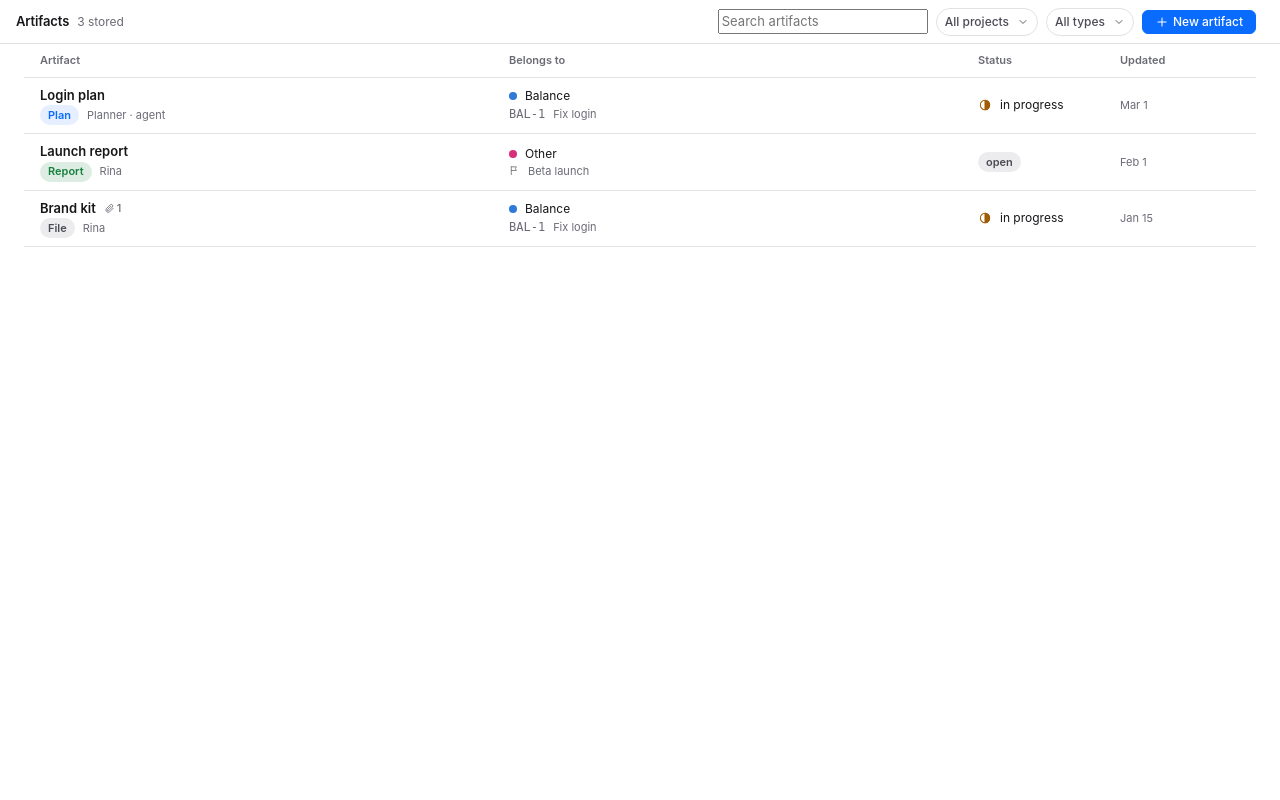
Test: Artifacts list › opens New artifact as a modal dialog, not an inline panel
Click the button "New artifact" at (1199, 22), box [1142,10,1256,34]
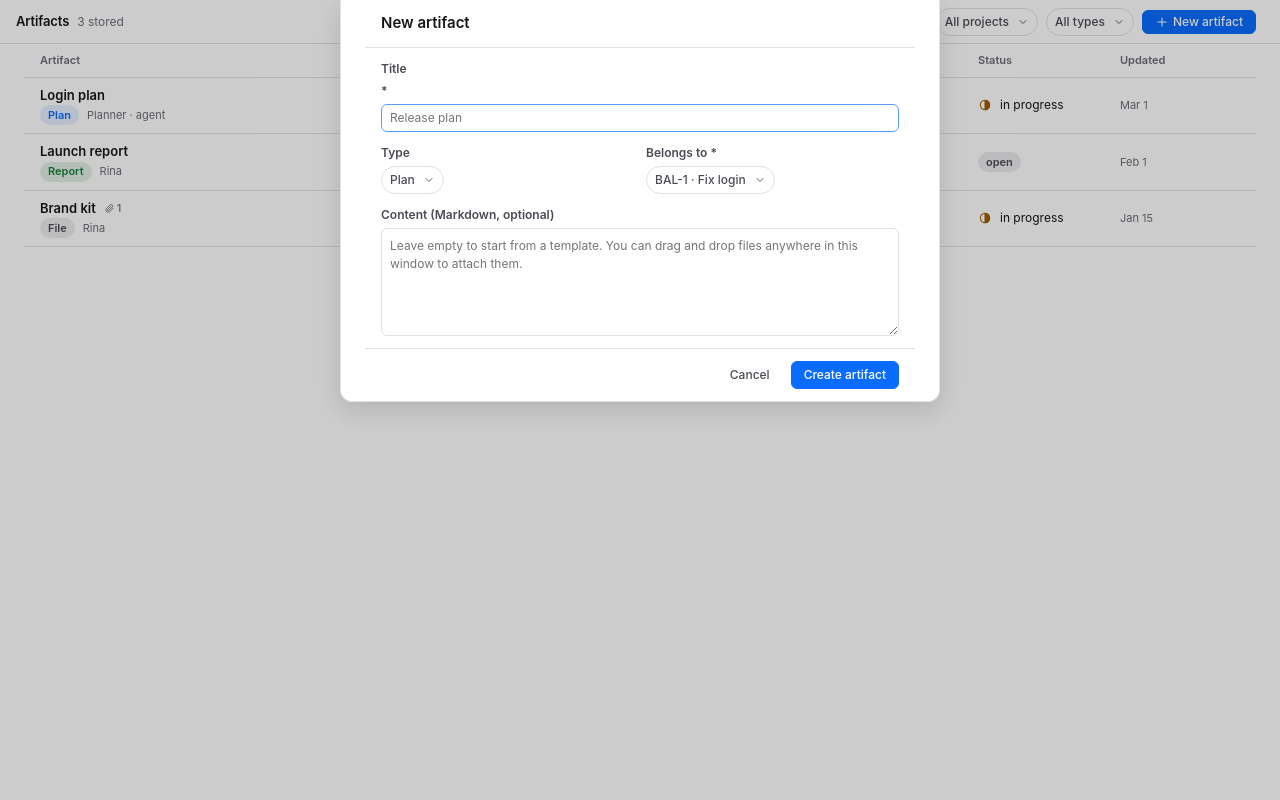
Expected: the dialog "New artifact" is shown, [340,0,940,402]
